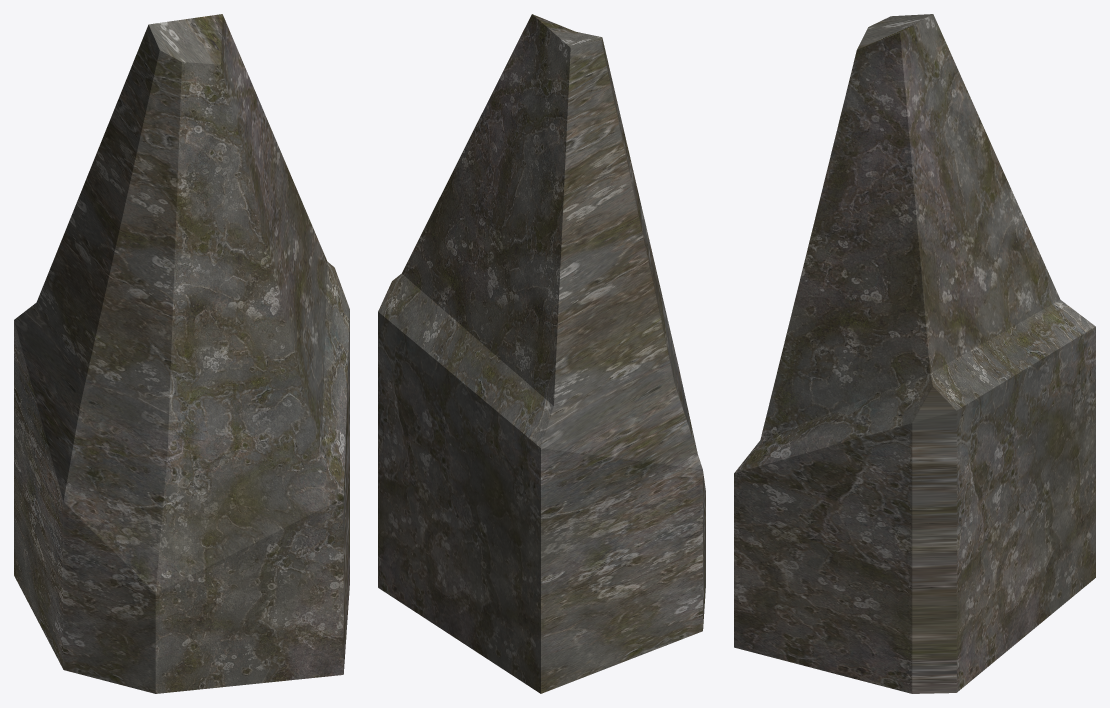
The model's file is rock01.obj.
The picture shows the model from 3 angles, left to right: view 1: azimuth 30°, elevation 25°; view 2: azimuth 150°, elevation 25°; view 3: azimuth 270°, elevation 25°; orthographic projection. The views are drawn at different scales.
Parts seen in each view (by area): view 1: Cube.017_Cube.090; view 2: Cube.017_Cube.090; view 3: Cube.017_Cube.090.
Part boxes in pixels (x1,y1,x2,y2): Cube.017_Cube.090: (14,14,349,693); Cube.017_Cube.090: (378,14,705,693); Cube.017_Cube.090: (734,14,1095,693).
Size of the model in its own units: 2.35 by 4.52 by 2.48.
